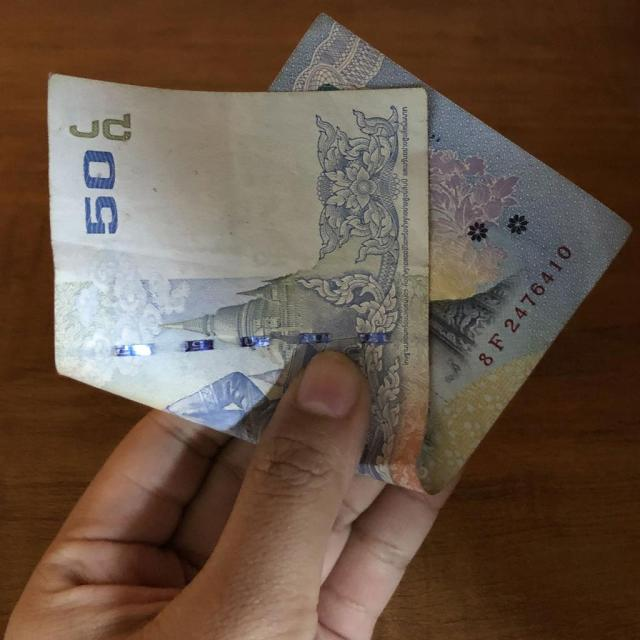THAI50: (48, 15, 629, 495)
